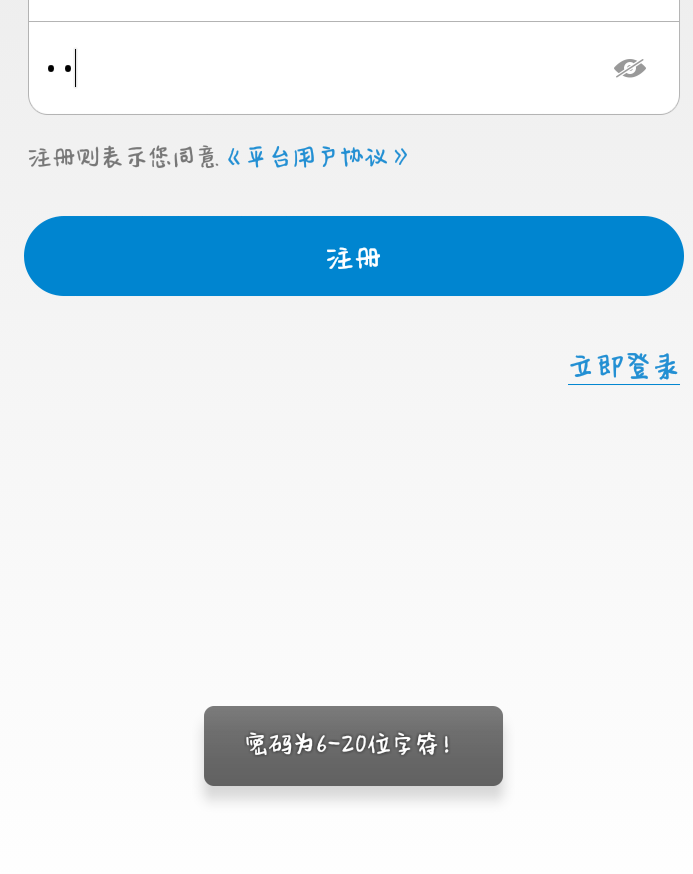alert: (199, 698, 507, 796)
